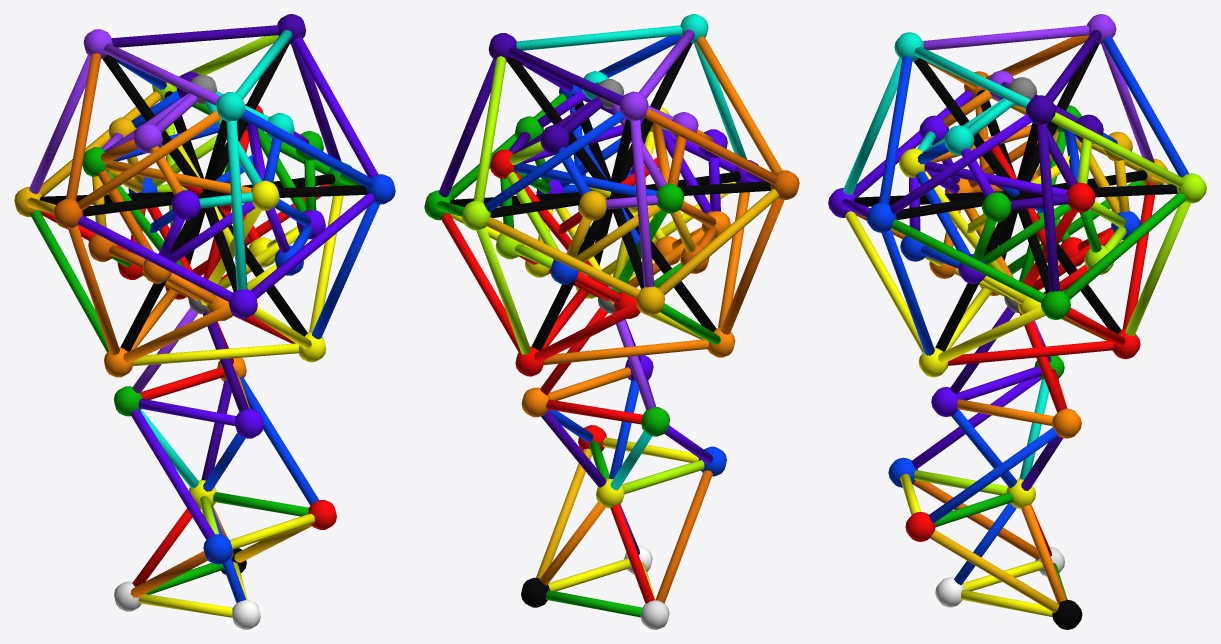
The model's file is Aether.glb.
The picture shows the model from 3 angles, left to right: view 1: azimuth 30°, elevation 25°; view 2: azimuth 150°, elevation 25°; view 3: azimuth 270°, elevation 25°; orthographic projection.
Visible parts, largest first — view 1: Radial2, Radial5, IcosaBlueGreenStem1, IcosaVioletStem3, IcosaBlueVioletStem2, IcosaOrangeStem1, IcosaYellowStem1, IcosaVioletStem2, IcosaVioletStem1, IcosaredOrangeStem1, IcosaBlueStem3, PrimeVioletStem2 (+64 smaller); view 2: Radial6, Radial2, IcosaRedVioletStem1, IcosaYellowOrangeStem1, IcosaBlueGreenStem2, IcosaOrangeStem2, IcosaBlueStem2, IcosaOrangeStem1, IcosaYellowOrangeStem2, IcosaYellowGreenStem1, IcosaredOrangeStem1, IcosaRedOrangeStem1 (+59 smaller); view 3: Radial5, Radial6, IcosaBlueVioletStem1, IcosaGreenStem2, IcosaredVioletStem1, IcosaBlueStem2, IcosaRedStem3, IcosaVioletStem2, IcosaGreenStem1, IcosaBlueStem1, Radial1, IcosaYellowGreenStem1 (+62 smaller).
Boxes of the visible parts, x1=… form: Radial2: x1=120, y1=43, x2=289, y2=351; Radial5: x1=102, y1=54, x2=307, y2=336; IcosaBlueGreenStem1: x1=226, y1=120, x2=247, y2=290; IcosaVioletStem3: x1=78, y1=216, x2=232, y2=301; IcosaBlueVioletStem2: x1=111, y1=25, x2=278, y2=47; IcosaOrangeStem1: x1=77, y1=110, x2=220, y2=210; IcosaYellowStem1: x1=133, y1=343, x2=298, y2=366; IcosaVioletStem2: x1=293, y1=37, x2=377, y2=177; IcosaVioletStem1: x1=251, y1=193, x2=375, y2=298; IcosaredOrangeStem1: x1=66, y1=53, x2=101, y2=200; IcosaBlueStem3: x1=312, y1=202, x2=379, y2=339; PrimeVioletStem2: x1=130, y1=409, x2=214, y2=539; Radial6: x1=531, y1=42, x2=692, y2=350; Radial2: x1=507, y1=58, x2=716, y2=331; IcosaRedVioletStem1: x1=630, y1=120, x2=654, y2=287; IcosaYellowOrangeStem1: x1=486, y1=217, x2=640, y2=299; IcosaBlueGreenStem2: x1=516, y1=25, x2=682, y2=50; IcosaOrangeStem2: x1=543, y1=339, x2=709, y2=365; IcosaBlueStem2: x1=484, y1=110, x2=624, y2=212; IcosaOrangeStem1: x1=696, y1=36, x2=782, y2=173; IcosaYellowOrangeStem2: x1=657, y1=189, x2=778, y2=295; IcosaYellowGreenStem1: x1=473, y1=56, x2=506, y2=202; IcosaredOrangeStem1: x1=644, y1=108, x2=777, y2=184; IcosaRedOrangeStem1: x1=720, y1=198, x2=784, y2=334; Radial5: x1=935, y1=42, x2=1099, y2=351; Radial6: x1=914, y1=58, x2=1121, y2=333; IcosaBlueVioletStem1: x1=1037, y1=124, x2=1059, y2=291; IcosaGreenStem2: x1=891, y1=219, x2=1045, y2=302; IcosaredVioletStem1: x1=923, y1=25, x2=1089, y2=50; IcosaBlueStem2: x1=1103, y1=37, x2=1188, y2=177; IcosaRedStem3: x1=947, y1=340, x2=1113, y2=365; IcosaVioletStem2: x1=890, y1=114, x2=1031, y2=214; IcosaGreenStem1: x1=1063, y1=192, x2=1186, y2=299; IcosaBlueStem1: x1=878, y1=56, x2=912, y2=204; Radial1: x1=854, y1=184, x2=1177, y2=206; IcosaYellowGreenStem1: x1=1051, y1=112, x2=1184, y2=187.
Size of the model in its own units: 25.6 by 40.68 by 25.02.
